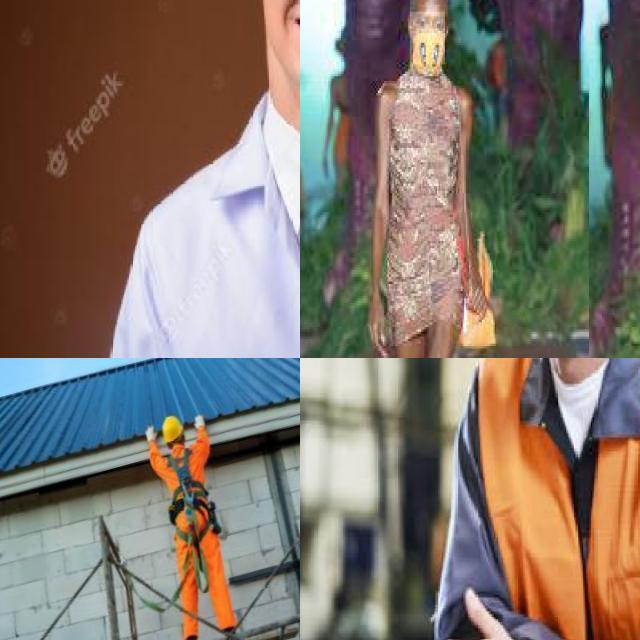Harness: (168, 449, 221, 534)
face_mask: (409, 12, 446, 66)
hand_noglove: (363, 291, 393, 358), (463, 268, 494, 321)
head_nohelmet: (409, 0, 448, 16)
person: (426, 358, 640, 640), (133, 0, 300, 358), (366, 0, 489, 358)
vest: (471, 358, 640, 640)
